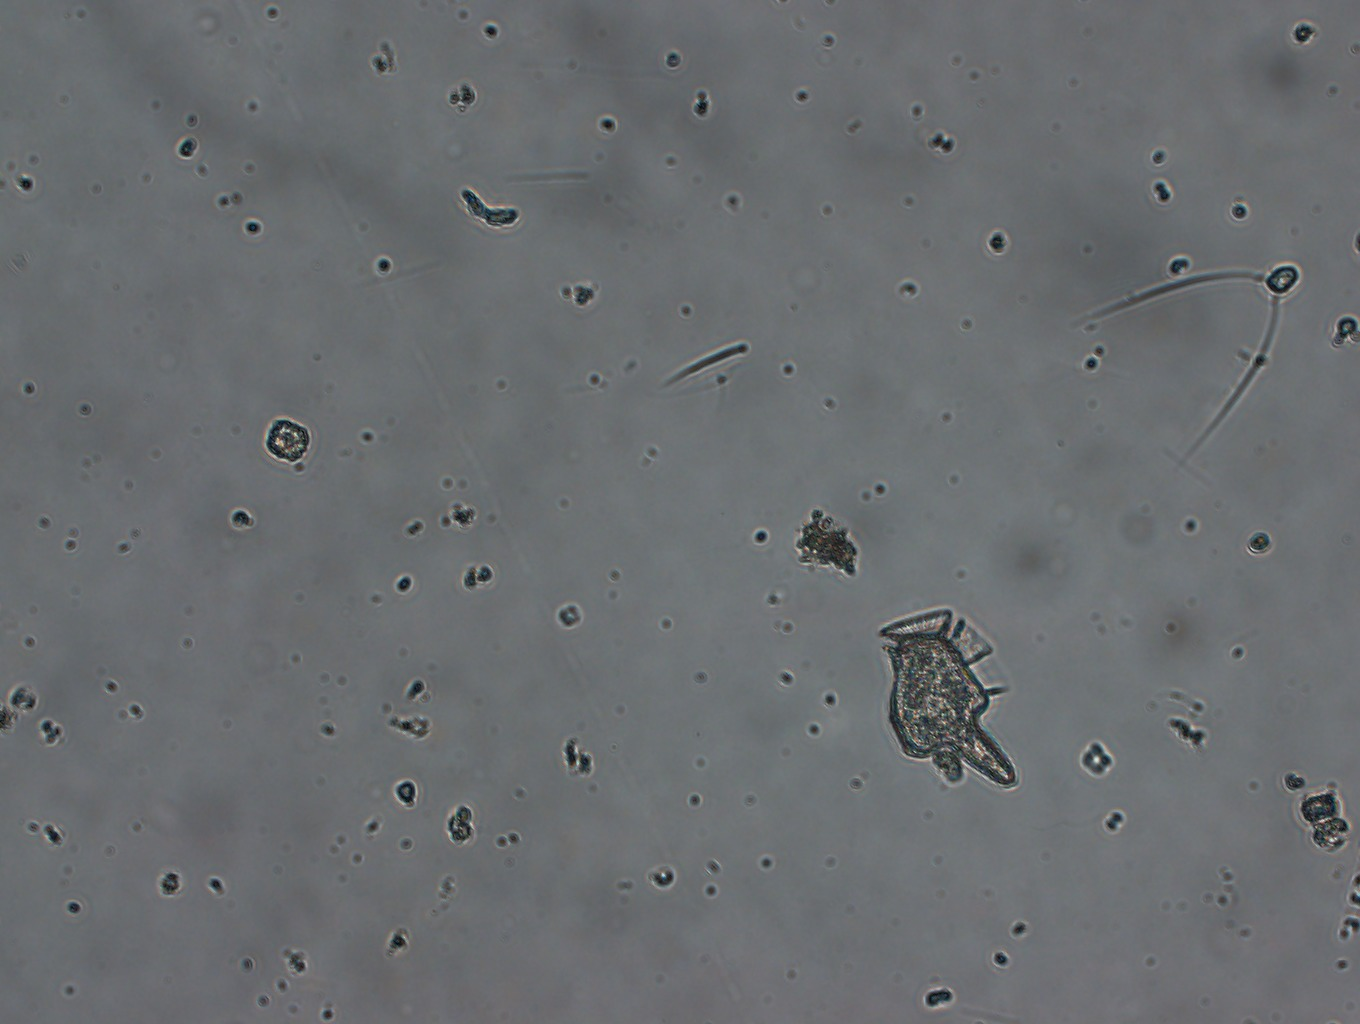dinophysis caudata: (870, 601, 1040, 814)
